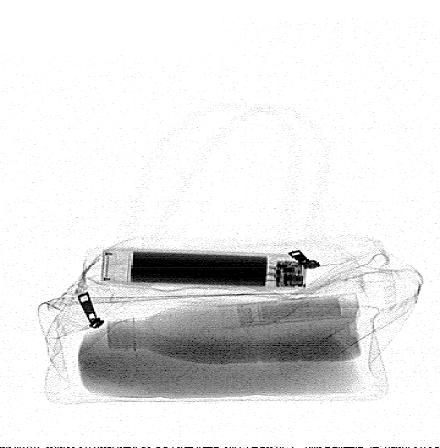Powerbank: (100, 246, 308, 292)
